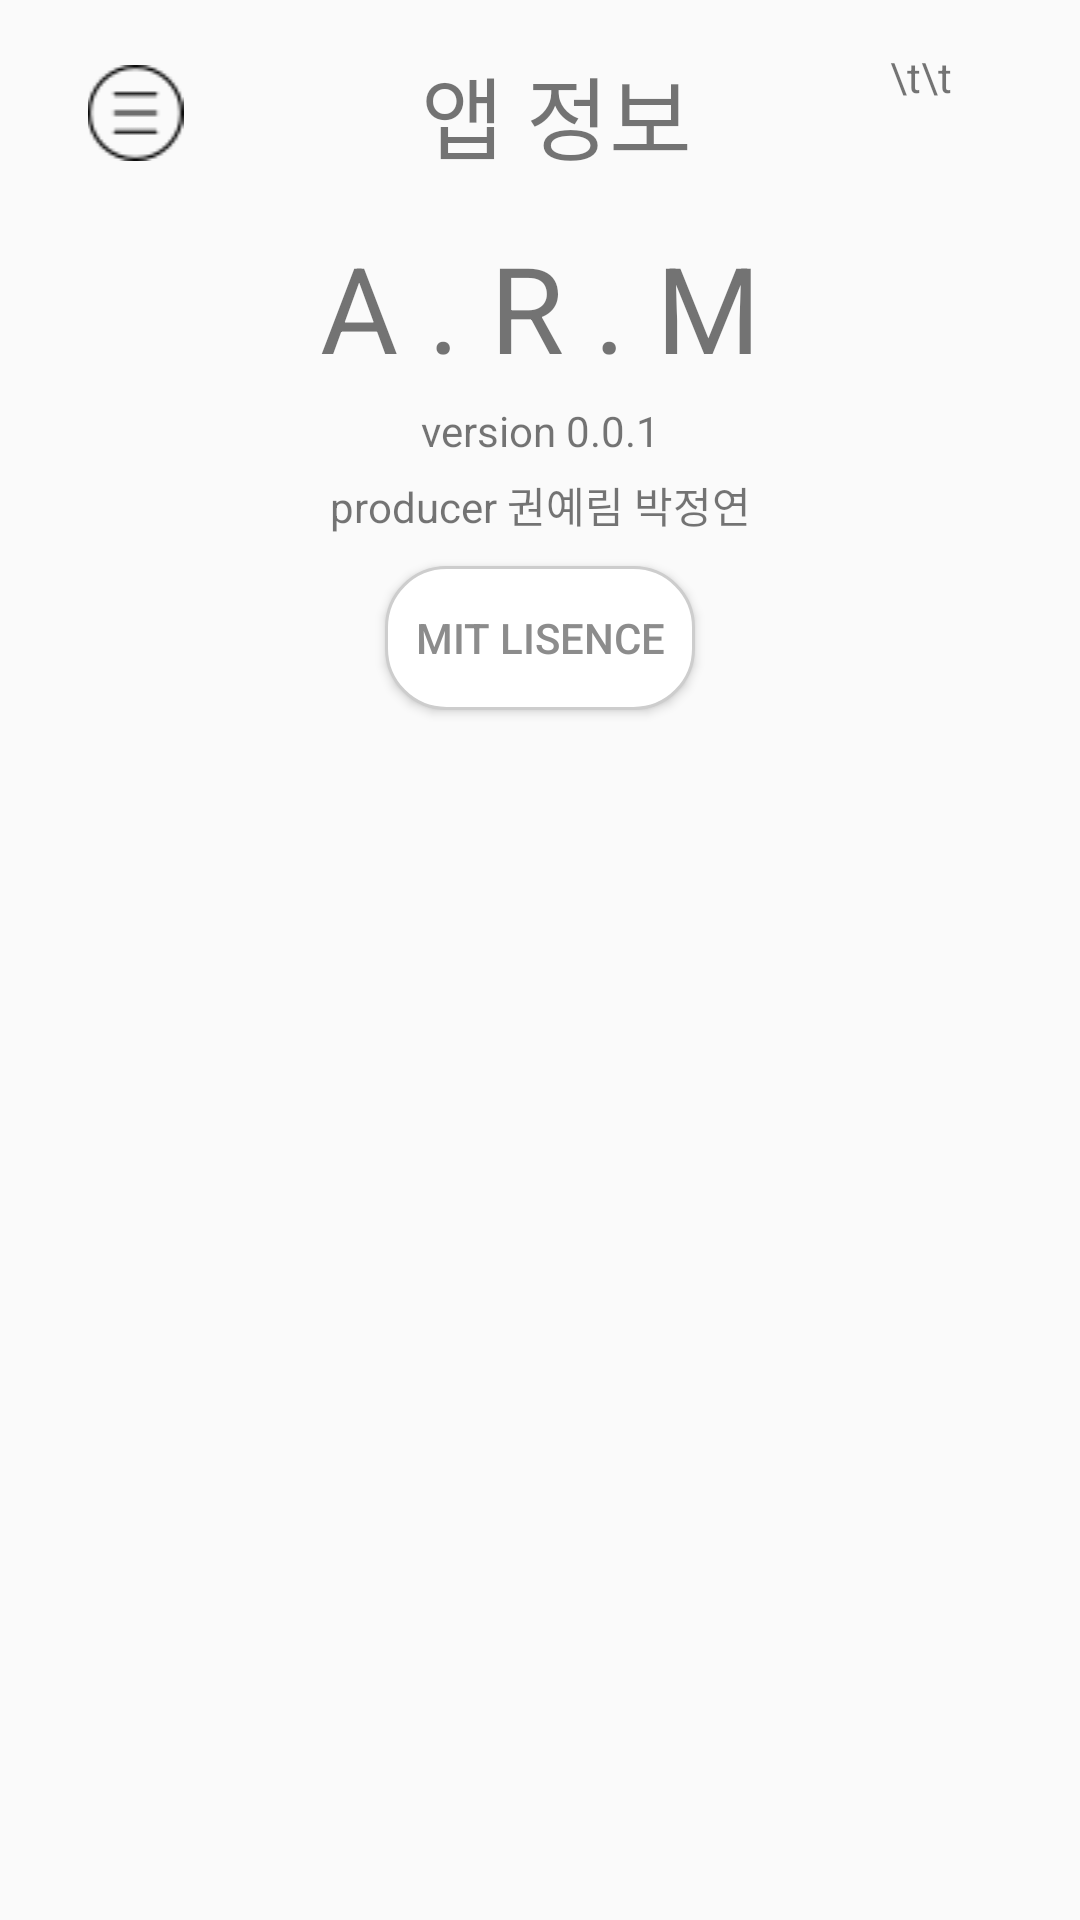

Named icons in this screenshot (1080w x 1920h) and their centers, (x,y):
menu: (136,113)
